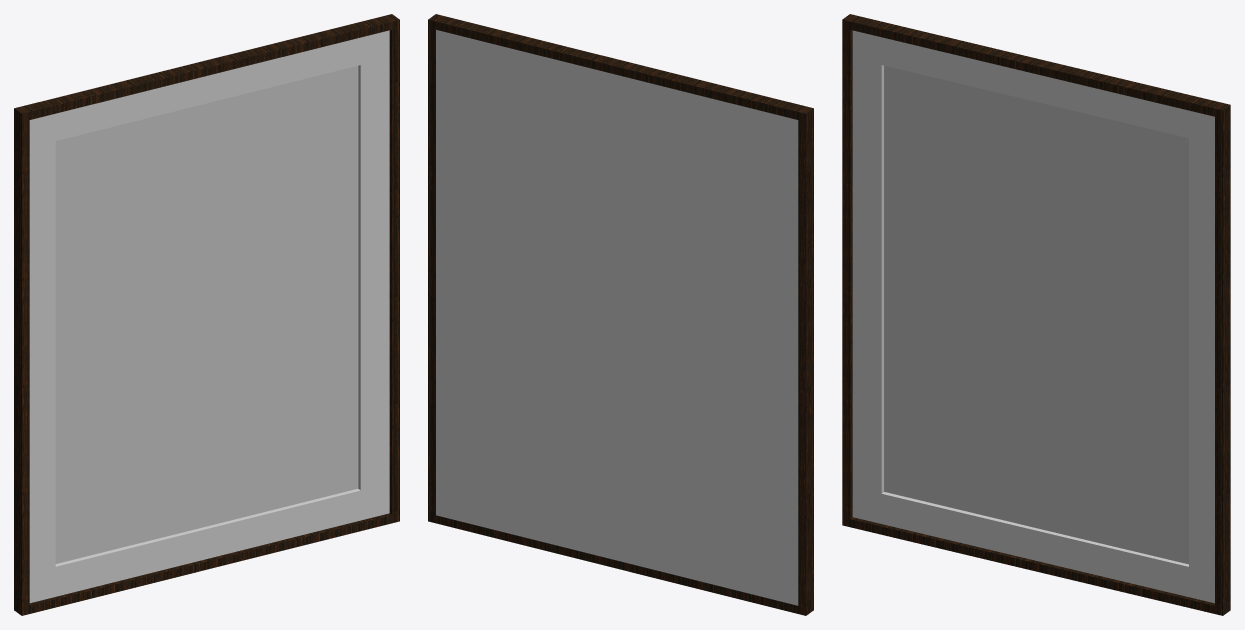
3 renders of one model, left to right at view 1: azimuth 30°, elevation 25°; view 2: azimuth 150°, elevation 25°; view 3: azimuth 330°, elevation 25°, orthographic.
Parts seen in each view (by area): view 1: 平面, Group_001; view 2: Group_001; view 3: 平面, Group_001.
Part boxes in pixels (x1,y1,x2,y2): 平面: (55, 66, 357, 563); Group_001: (14, 14, 399, 615); Group_001: (428, 14, 813, 615); 平面: (884, 66, 1188, 564); Group_001: (842, 14, 1230, 615).
Bounding box in the file's own units: 846 × 1078 × 30.
Materials: 3 (1 with a texture image).
